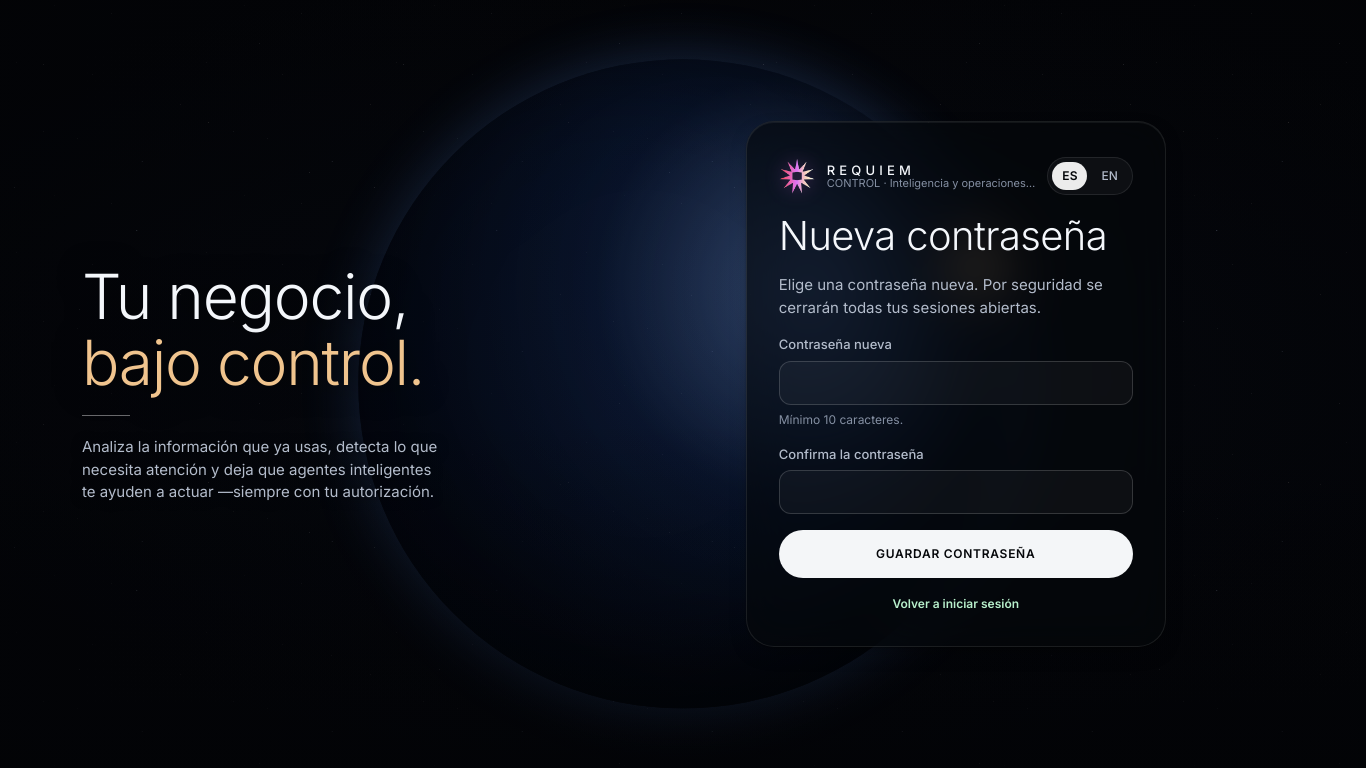
Test: account recovery and invitations › reset checks confirmation, sends the token and handles a used link
This screenshot has width=1366, height=768.
Type "una-clave-larga" into the password field labelled "Contraseña nueva" at (956, 383), box x1=779 y1=361 x2=1133 y2=405
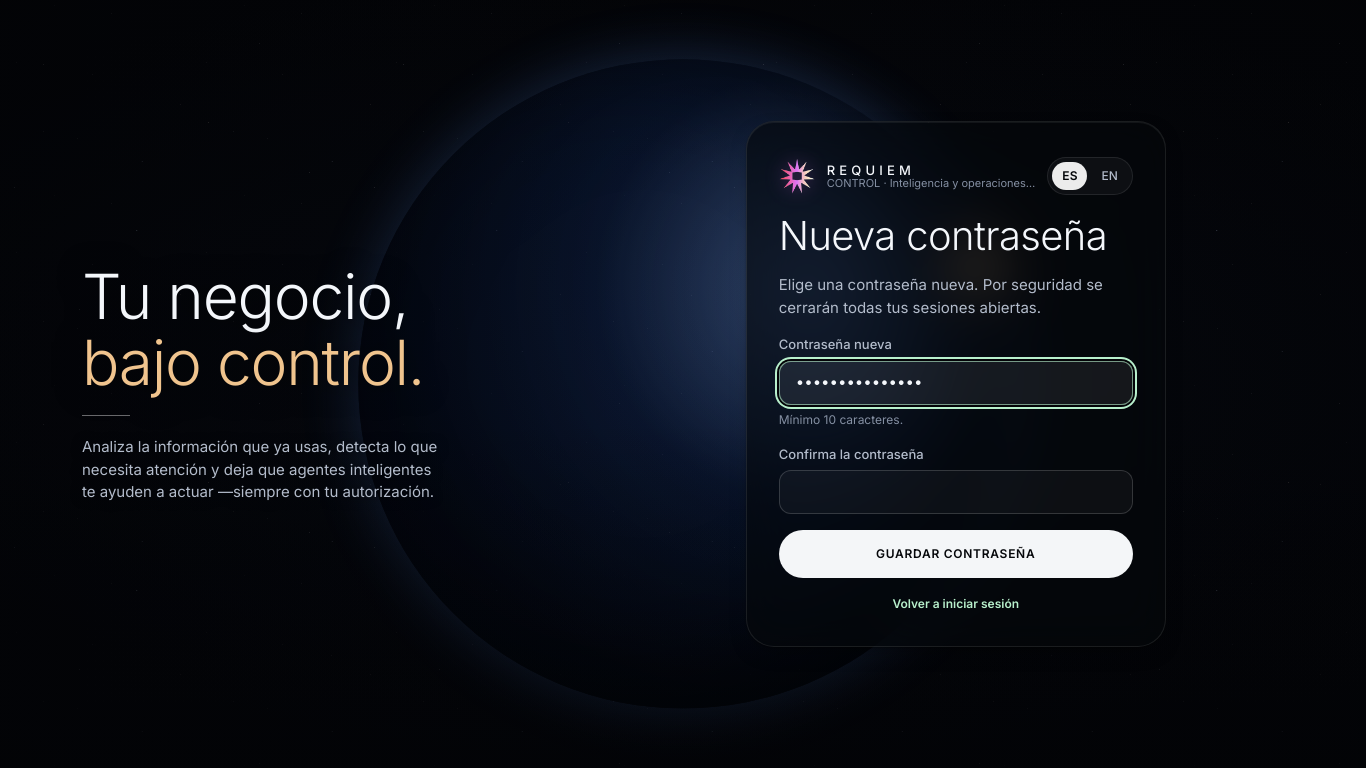
Type "otra-distinta-xx" into the password field labelled "Confirma la contraseña" at (956, 492), box x1=779 y1=470 x2=1133 y2=514
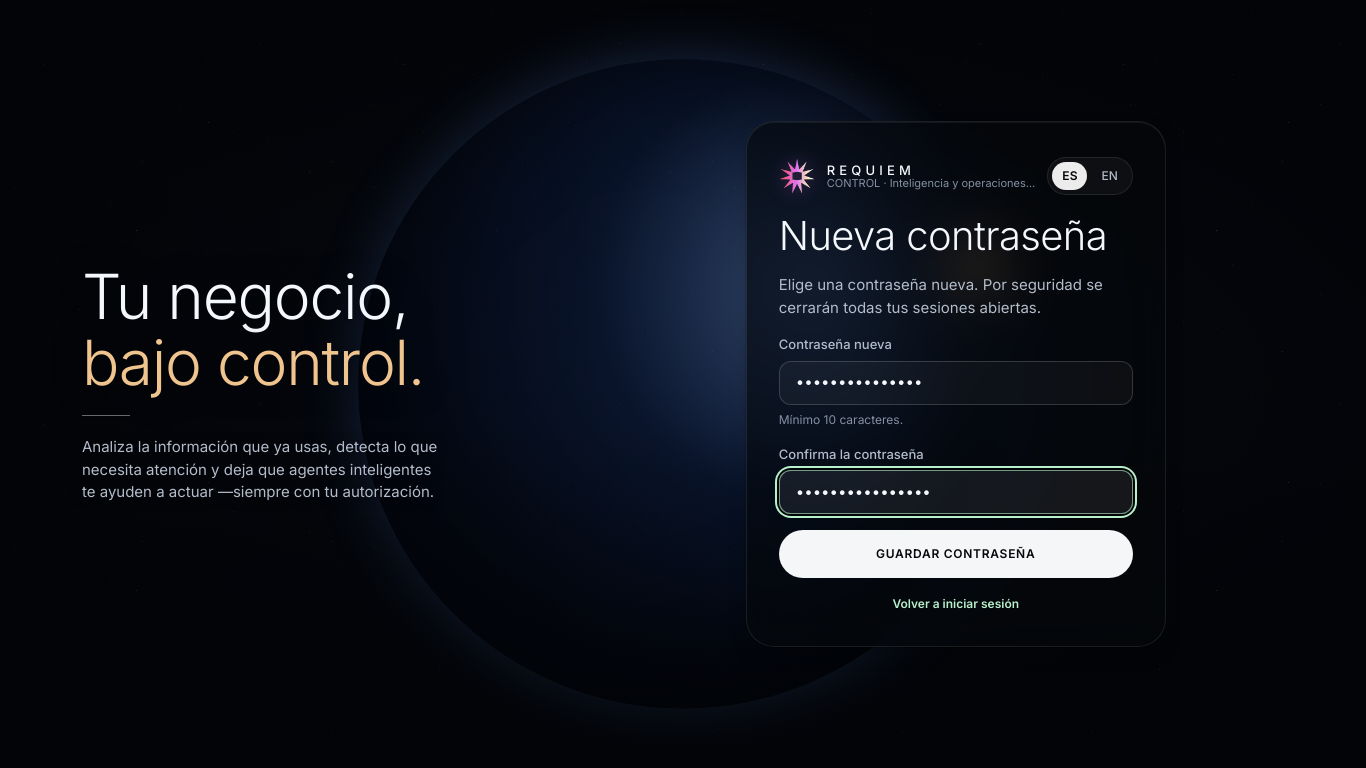
Click the button "Guardar contraseña" at (956, 554), box x1=779 y1=530 x2=1133 y2=578
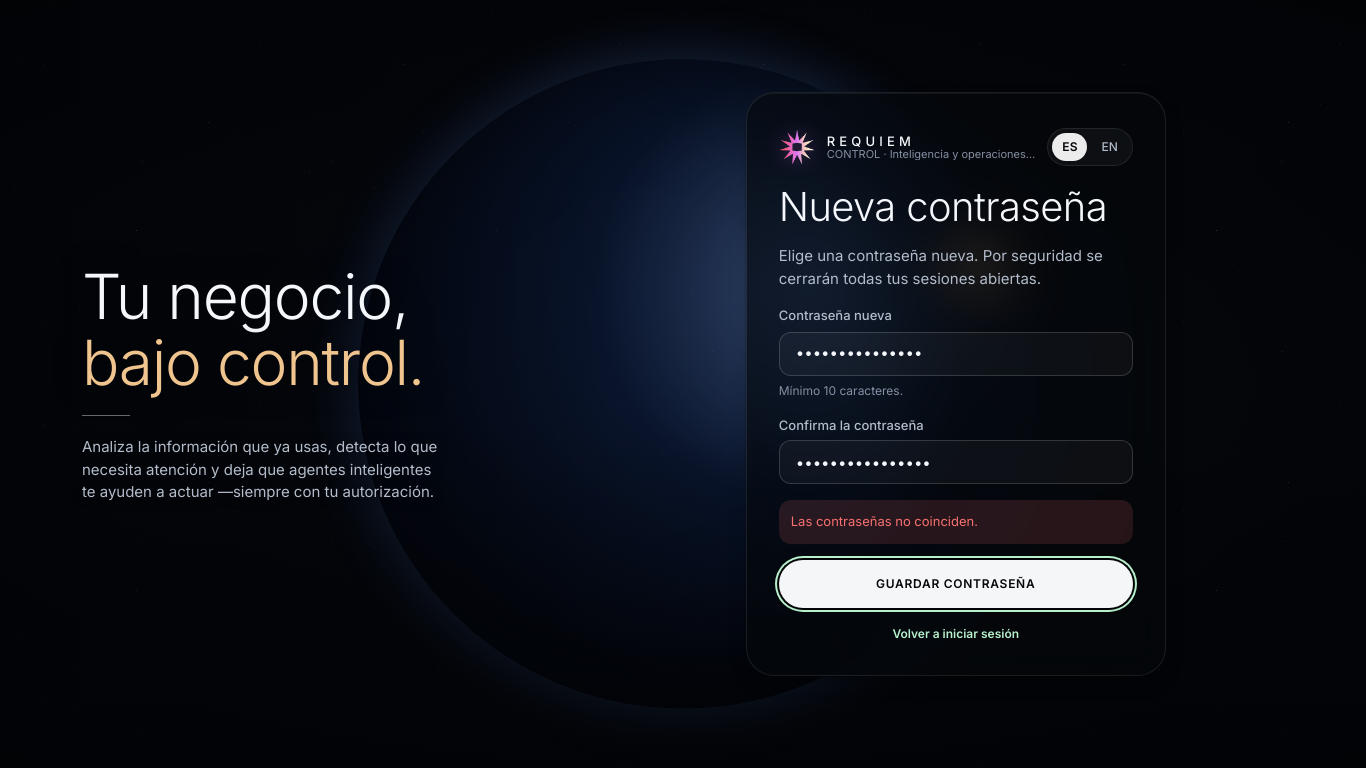
Check: the message shows "no coinciden", box x1=791 y1=514 x2=978 y2=530
Type "una-clave-larga" into the password field labelled "Confirma la contraseña" at (956, 462), box x1=779 y1=440 x2=1133 y2=484
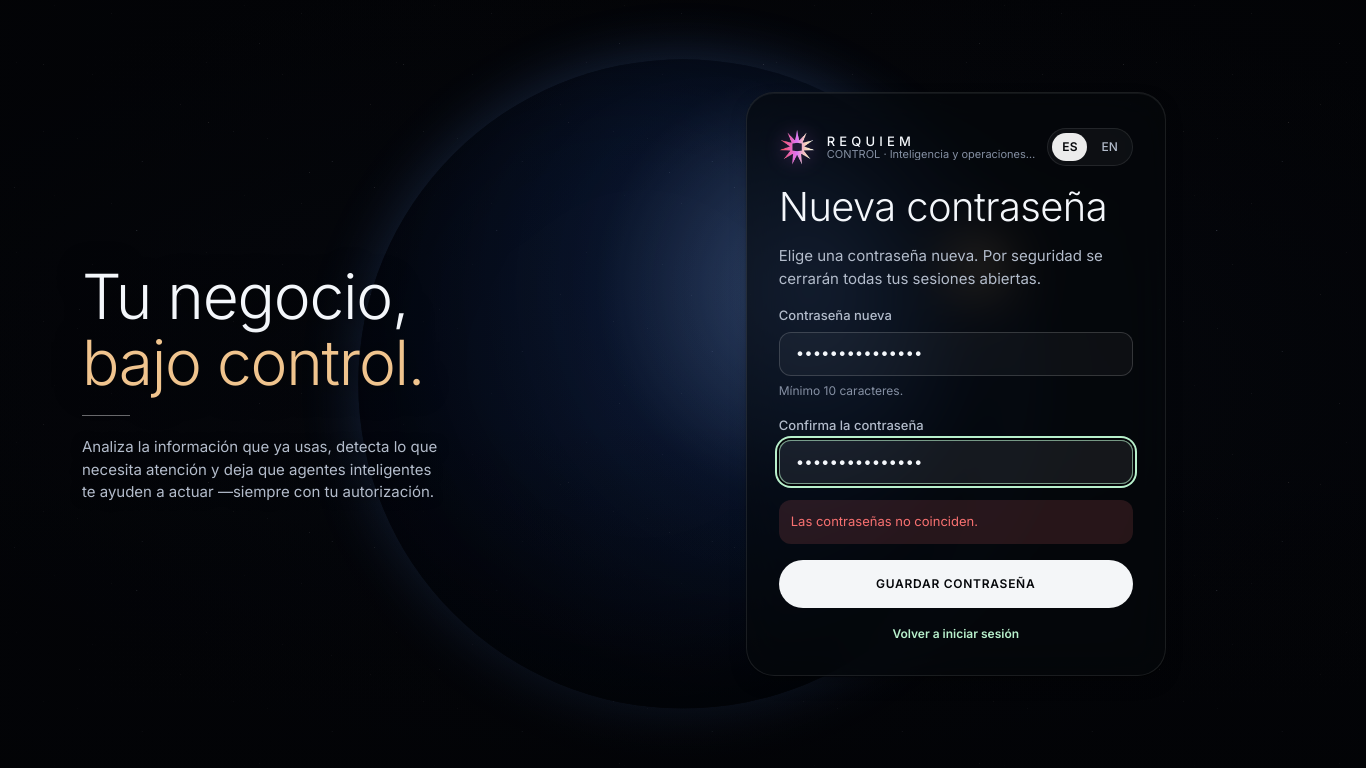
Click the button "Guardar contraseña" at (956, 584), box x1=779 y1=560 x2=1133 y2=608
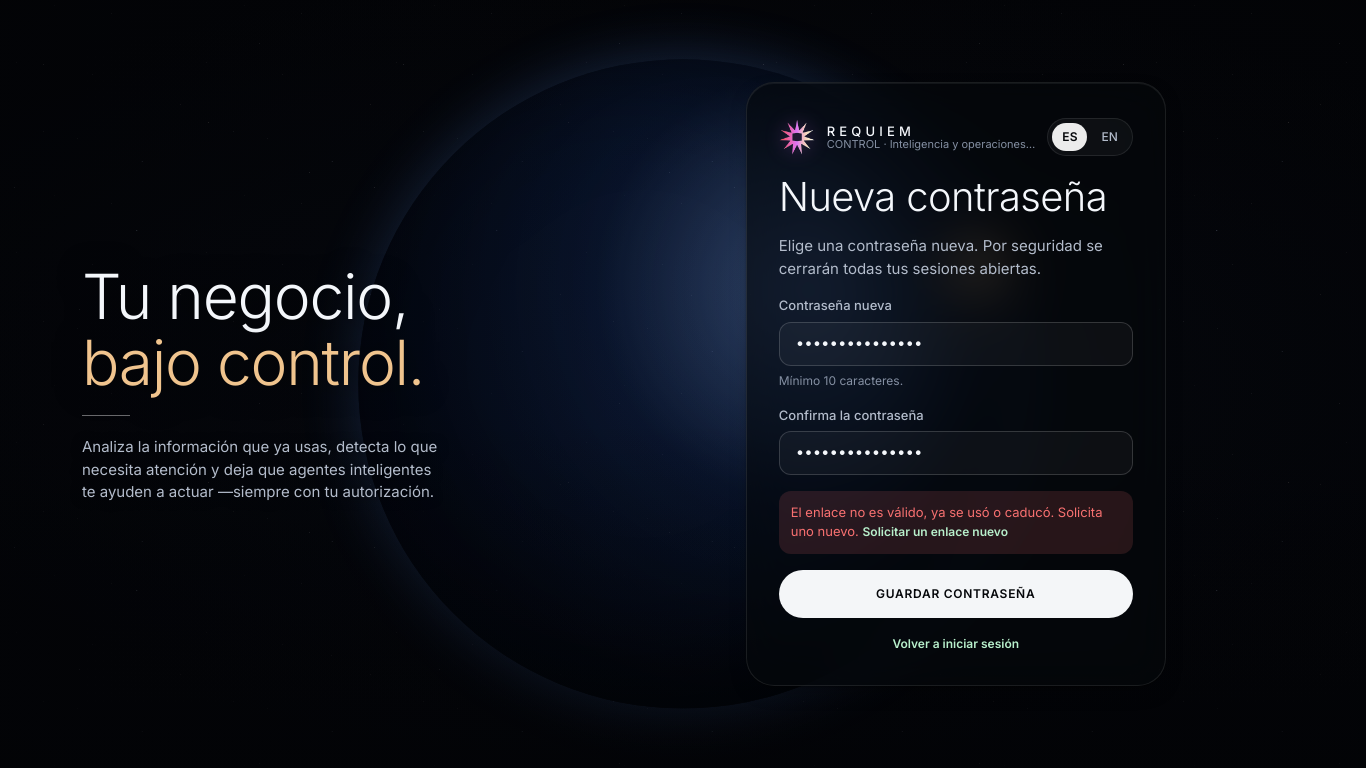
Check: the message shows "ya se usó o caducó", box x1=791 y1=504 x2=1102 y2=539
Check: the link "Solicitar un enlace nuevo" is shown, box x1=862 y1=524 x2=1008 y2=539
Click the button "Guardar contraseña" at (956, 594), box x1=779 y1=570 x2=1133 y2=618
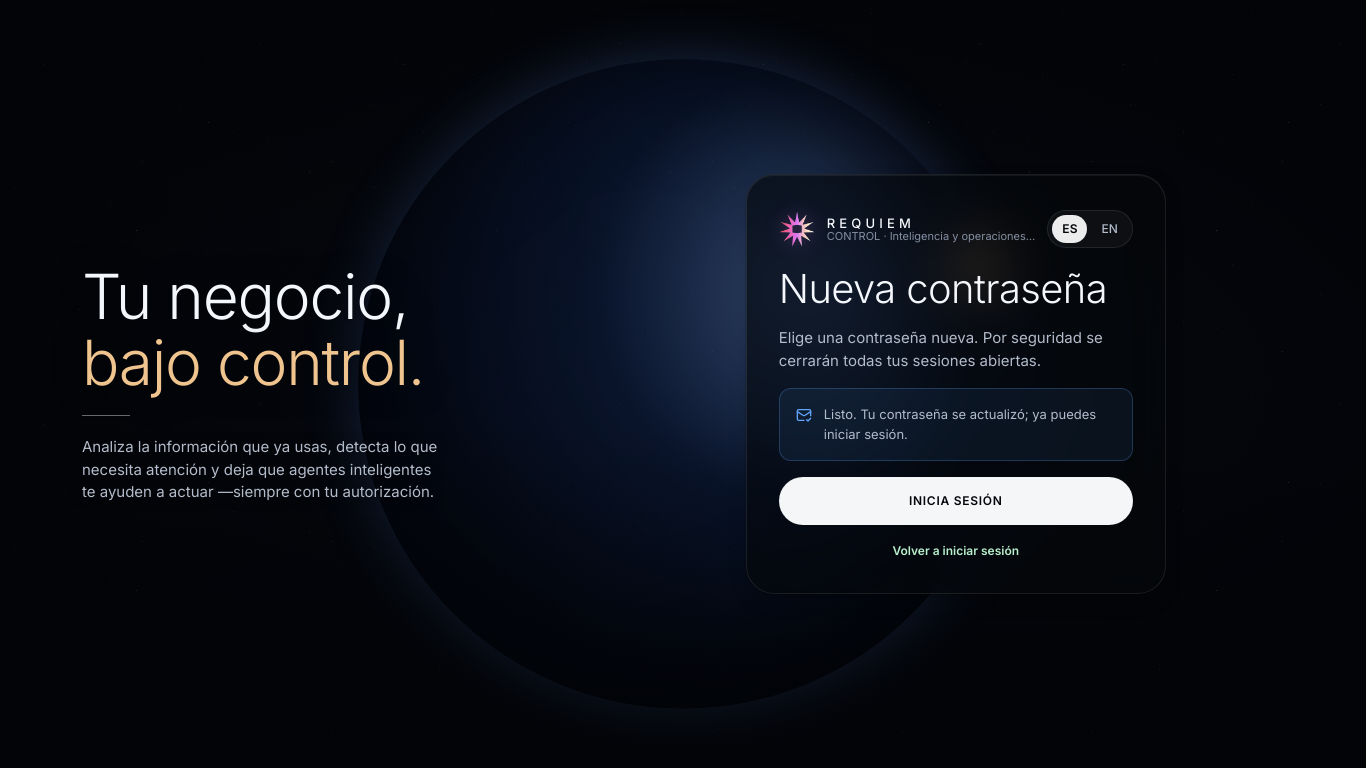
Check: the message shows "Tu contraseña se actualizó", box x1=824 y1=406 x2=1096 y2=442
